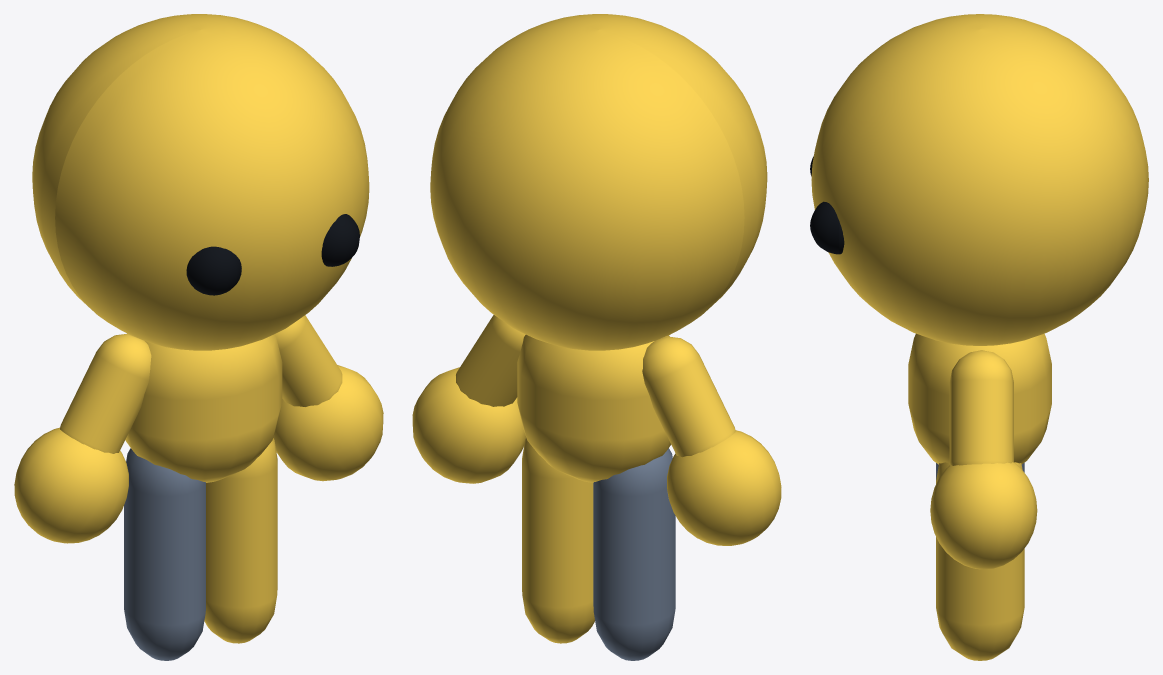
File: authored-character-source.glb
The picture shows the model from 3 angles, left to right: view 1: azimuth 30°, elevation 25°; view 2: azimuth 150°, elevation 25°; view 3: azimuth 270°, elevation 25°; orthographic projection.
Parts seen in each view (by area): view 1: Head_Skin, Torso, Leg_L_Upper, Leg_L_Upper.001, Arm_L_Hand, Arm_L_Hand.001, Arm_L_Upper, Arm_L_Upper.002; view 2: Head_Skin, Torso, Leg_L_Upper, Leg_L_Upper.001, Arm_L_Hand, Arm_L_Hand.001, Arm_L_Upper, Arm_L_Upper.002; view 3: Head_Skin, Torso, Arm_L_Hand.001, Leg_L_Upper.001, Arm_L_Upper.002.
Boxes of the visible parts, box(x1,y1,x2,y2) form: Head_Skin: box(32, 14, 369, 350); Torso: box(125, 334, 282, 482); Leg_L_Upper: box(124, 448, 205, 660); Leg_L_Upper.001: box(204, 438, 277, 643); Arm_L_Hand: box(14, 427, 128, 543); Arm_L_Hand.001: box(273, 365, 383, 481); Arm_L_Upper: box(60, 333, 151, 453); Arm_L_Upper.002: box(274, 315, 342, 406); Head_Skin: box(430, 14, 767, 350); Torso: box(517, 334, 670, 482); Leg_L_Upper: box(593, 448, 675, 660); Leg_L_Upper.001: box(522, 438, 594, 643); Arm_L_Hand: box(667, 430, 781, 545); Arm_L_Hand.001: box(412, 367, 526, 483); Arm_L_Upper: box(642, 336, 735, 457); Arm_L_Upper.002: box(456, 315, 525, 406); Head_Skin: box(810, 14, 1148, 345); Torso: box(908, 333, 1051, 464); Arm_L_Hand.001: box(930, 462, 1037, 569); Leg_L_Upper.001: box(936, 462, 1024, 660); Arm_L_Upper.002: box(949, 350, 1013, 465).
Bounding box in the file's own units: 0.5064 × 0.8395 × 0.4215.
